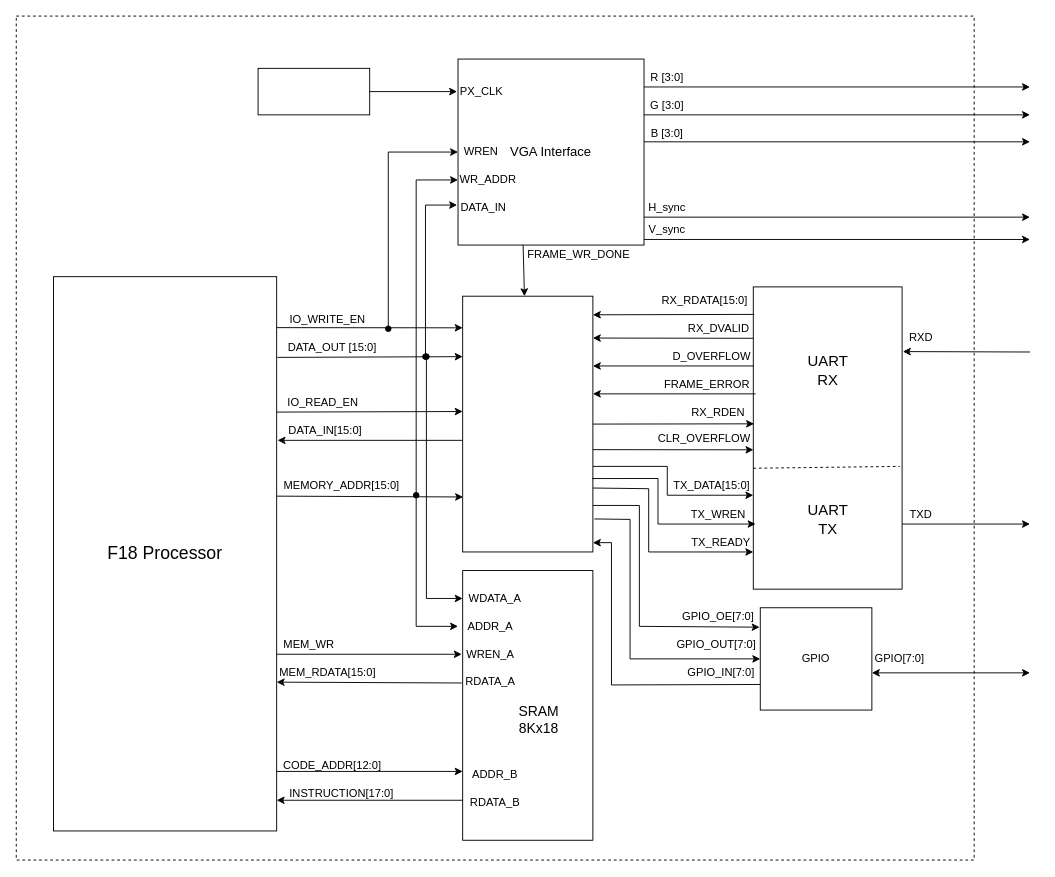
Image size: 1055x877. Some labels were removed from this diagram. Here are the shapes that lost their labels. From the top down, the centre of each, then its label:
At pixel 313 91: "Pixel Clk ~108 MHz".
At pixel 527 423: "CSR".
